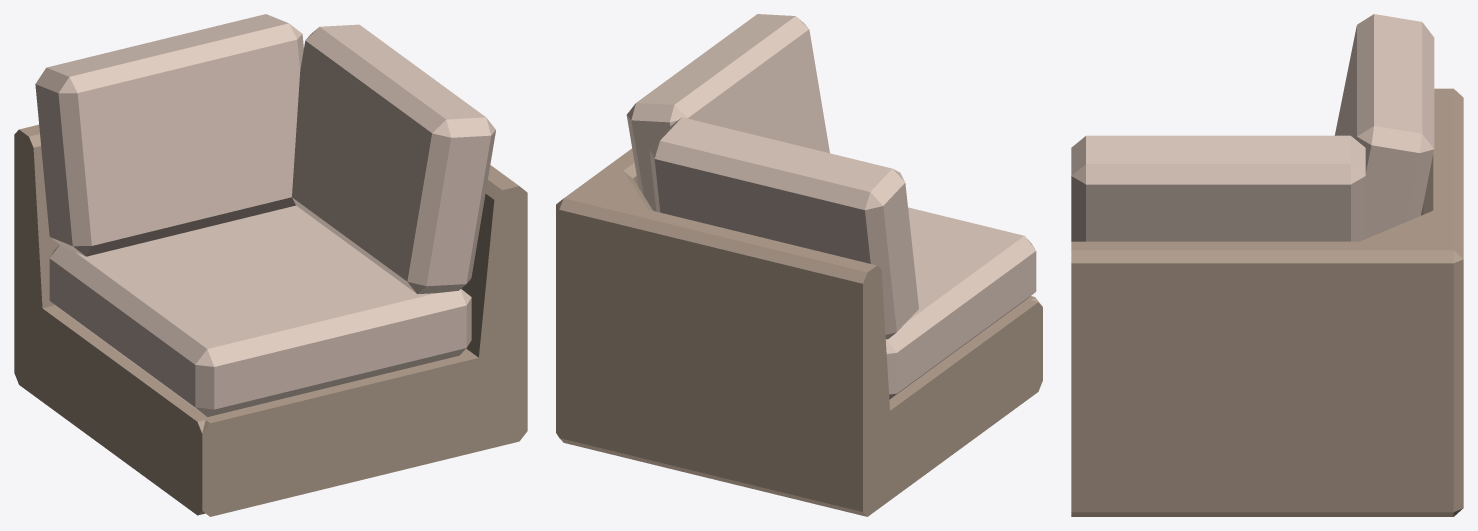
Rendered from Prop_Living_Room_Modular_Couch_Corner.obj.
3 renders of one model, left to right at view 1: azimuth 30°, elevation 25°; view 2: azimuth 150°, elevation 25°; view 3: azimuth 270°, elevation 25°, orthographic. The views are drawn at different scales.
Visible parts, largest first — view 1: object4, object3, object2, object1; view 2: object4, object2, object1, object3; view 3: object4, object1, object2.
Boxes of the visible parts, left/top/right/bottom form: object4: left=14, top=124, right=527, bottom=516; object3: left=49, top=205, right=471, bottom=416; object2: left=35, top=14, right=303, bottom=256; object1: left=292, top=24, right=495, bottom=294; object4: left=556, top=148, right=1042, bottom=516; object2: left=649, top=117, right=918, bottom=339; object1: left=626, top=14, right=829, bottom=211; object3: left=885, top=207, right=1036, bottom=399; object4: left=1071, top=88, right=1463, bottom=516; object1: left=1071, top=135, right=1365, bottom=241; object2: left=1334, top=14, right=1434, bottom=238.
Bounding box in the file's own units: 1 × 0.9777 × 1.
